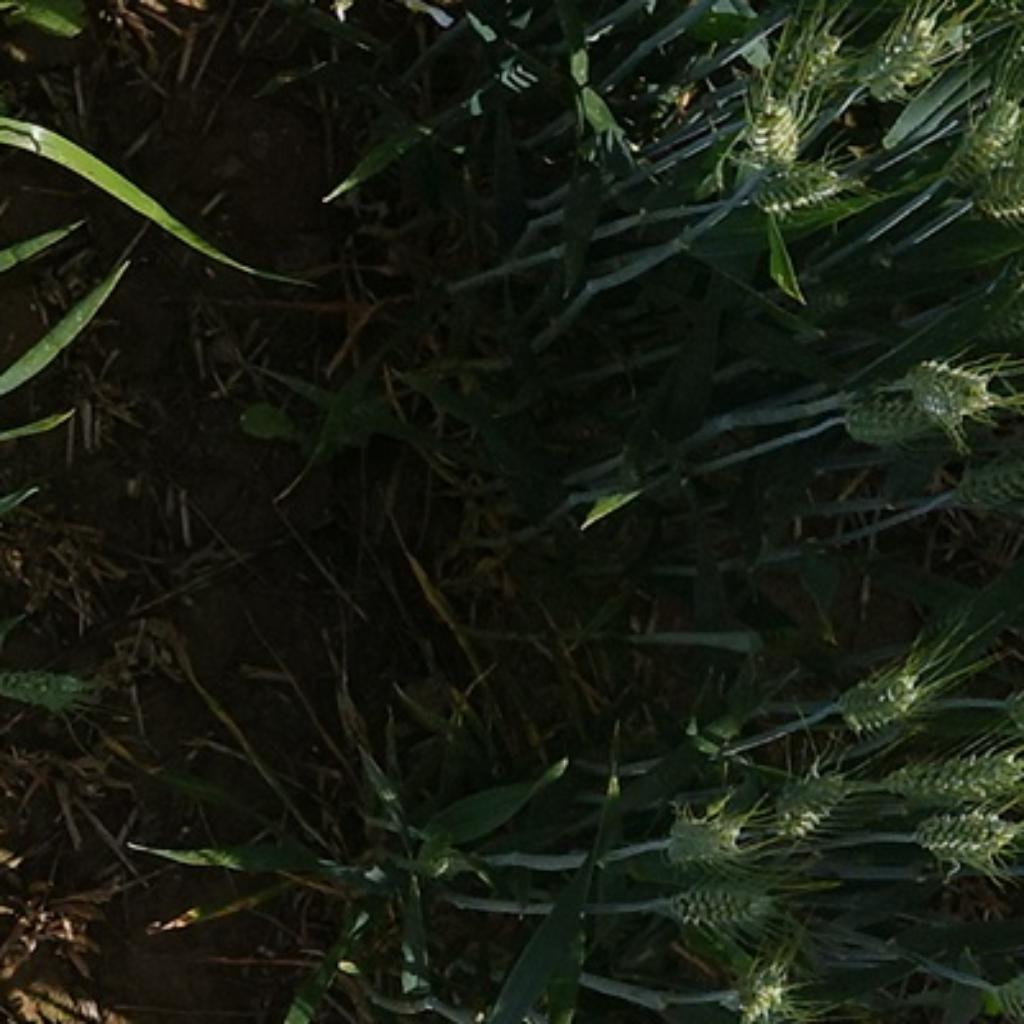0-0: (744, 12, 847, 117), (849, 2, 957, 102), (734, 74, 819, 186), (739, 143, 865, 217), (888, 348, 1000, 430), (665, 862, 788, 936), (949, 87, 1024, 199), (832, 381, 947, 450), (901, 801, 1021, 867), (824, 662, 927, 736), (765, 757, 855, 837), (890, 750, 1024, 803), (939, 462, 1024, 527), (655, 803, 744, 865), (0, 655, 92, 711), (728, 954, 796, 1024)
